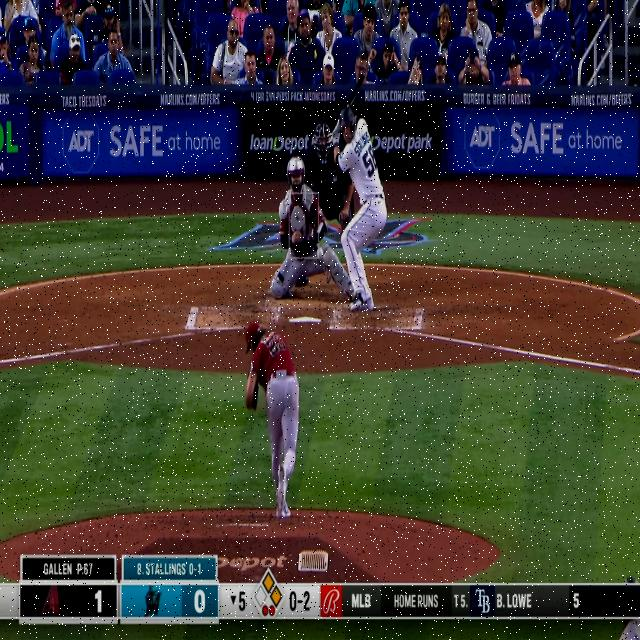baseball: (316, 246, 324, 260)
